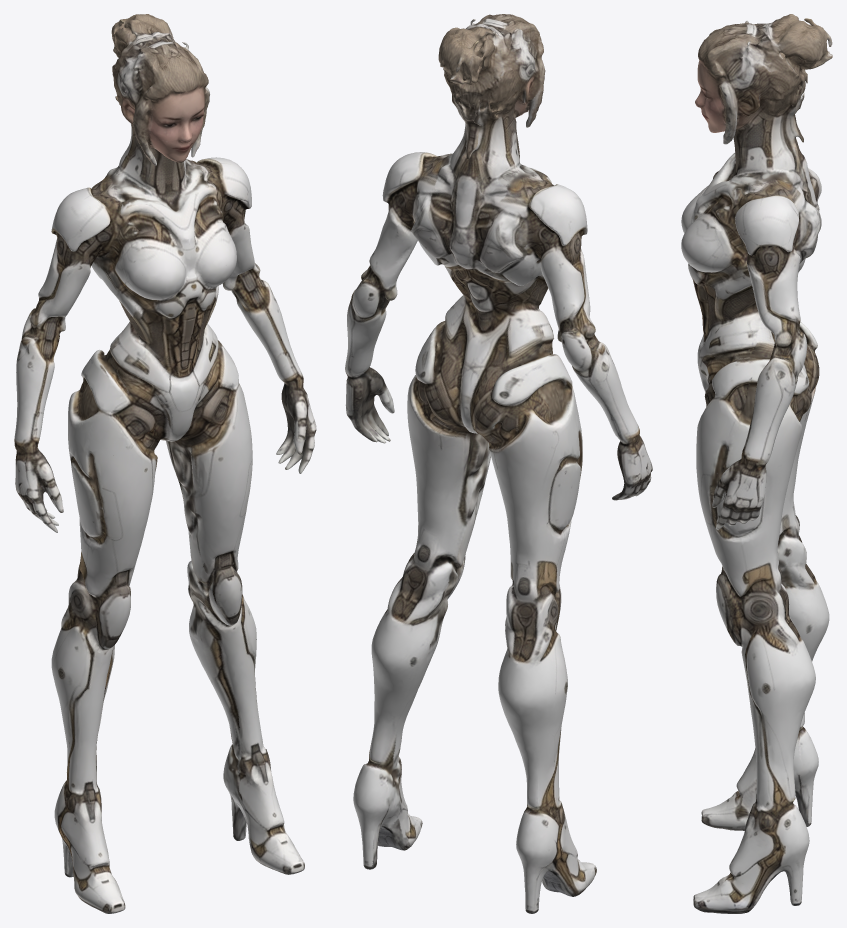
File: aurora.glb
The picture shows the model from 3 angles, left to right: view 1: azimuth 30°, elevation 25°; view 2: azimuth 150°, elevation 25°; view 3: azimuth 270°, elevation 25°; orthographic projection. The views are drawn at different scales.
Visible parts, largest first — view 1: mesh_node; view 2: mesh_node; view 3: mesh_node.
Part boxes in pixels (x1,y1,x2,y2): mesh_node: [14, 14, 316, 913]; mesh_node: [345, 14, 652, 913]; mesh_node: [681, 14, 832, 913].
Bounding box in the file's own units: 0.6831 × 1.9 × 0.3105.
1 material, 1 textured.
